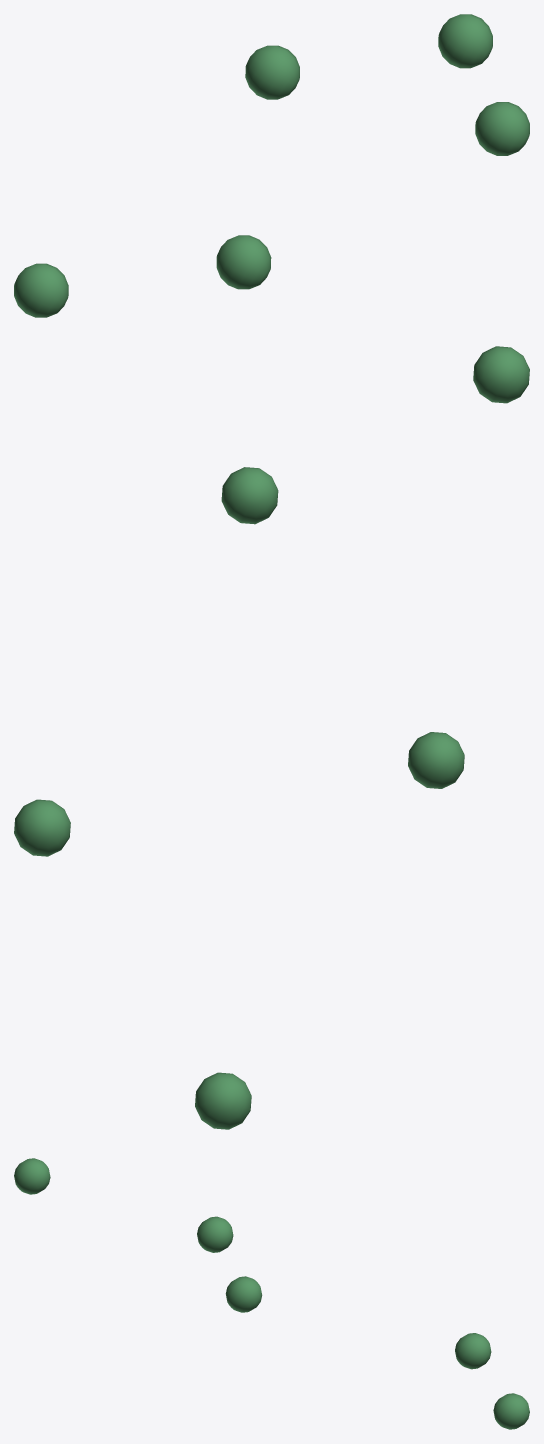
3 renders of one model, top to bottom at view 1: azimuth 30°, elevation 25°; view 2: azimuth 150°, elevation 25°; view 3: azimuth 270°, elevation 25°, orthographic. The views are drawn at different scales.
Parts seen in each view (by area): view 1: 左侧胸肌间淋巴结; view 2: 左侧胸肌间淋巴结; view 3: 左侧胸肌间淋巴结.
Boxes of the visible parts, x1=… form: 左侧胸肌间淋巴结: x1=14, y1=14, x2=529, y2=317; 左侧胸肌间淋巴结: x1=14, y1=346, x2=529, y2=1129; 左侧胸肌间淋巴结: x1=14, y1=1158, x2=529, y2=1429.
Size of the model in its own units: 0.0199 by 0.0345 by 0.0539.
